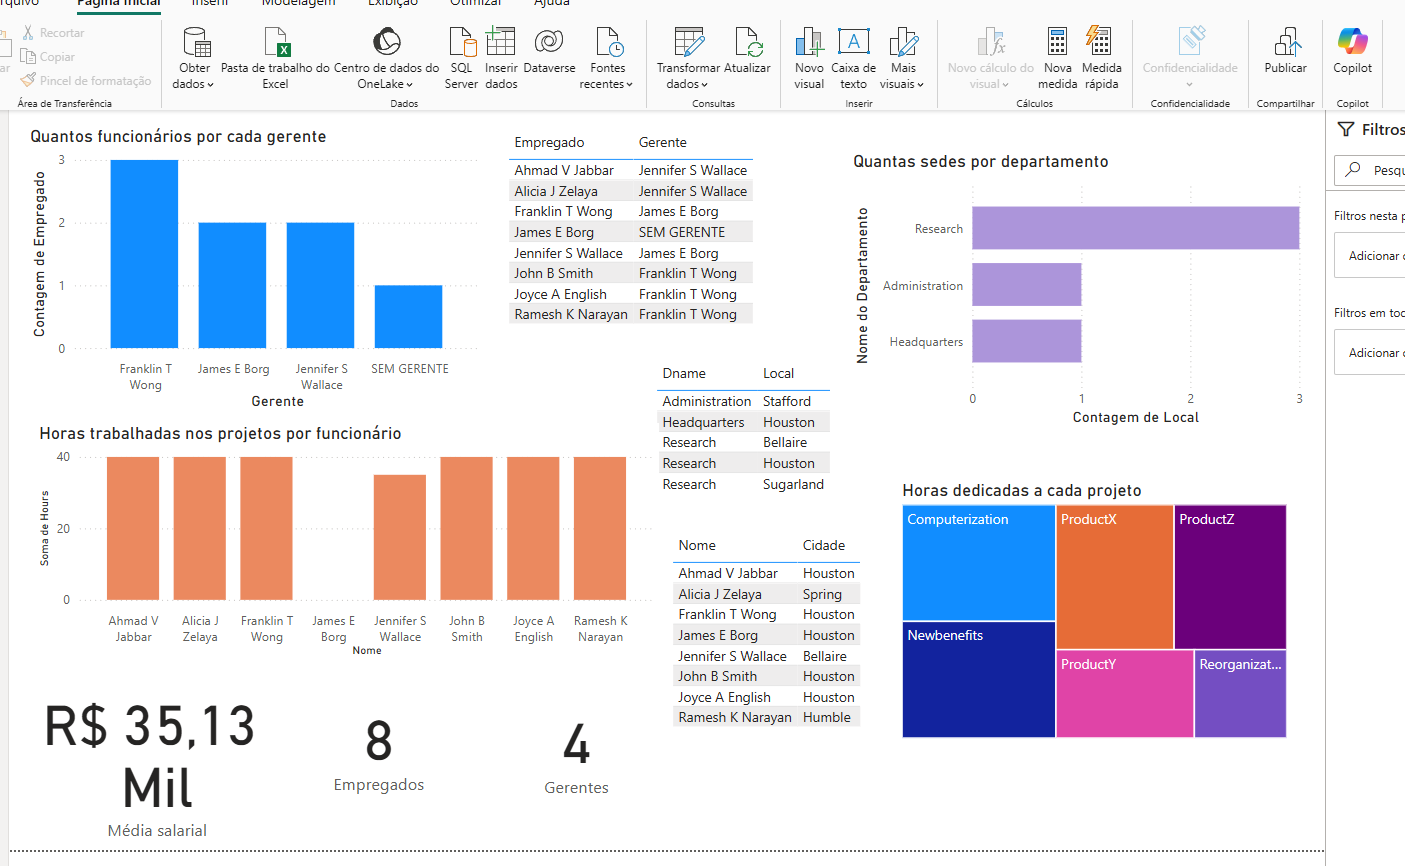

This screenshot's page, from the dashboard's own definition file:
{"tool":"powerbi","page":{"name":"Página 1","canvas":[1280,720],"ordinal":0},"visuals":[{"type":"clusteredColumnChart","title":"Quantos funcionários por cada gerente","fields":{"Y":["Empregado-Gerente.Empregado"],"Category":["Empregado-Gerente.Gerente"]},"box":[16,16,448,280],"z":0},{"type":"tableEx","fields":{"Values":["Empregado-Gerente.Empregado","Empregado-Gerente.Gerente"]},"box":[480,16,264,208],"z":1},{"type":"barChart","title":"Quantas sedes por departamento","fields":{"Category":["DPTO LOCAL.Dname"],"Y":["DPTO LOCAL.Local"]},"box":[816,40,448,272],"z":2},{"type":"tableEx","fields":{"Values":["DPTO LOCAL.Dname","DPTO LOCAL.Local"]},"box":[624,240,192,168],"z":3},{"type":"columnChart","title":"Horas trabalhadas nos projetos por funcionário","fields":{"Category":["Empregados.Nome","Trabalha em.Essn"],"Y":["Trabalha em.Hours"]},"box":[24,304,608,232],"z":4},{"type":"treemap","title":"Horas dedicadas a cada projeto","fields":{"Values":["Trabalha em.Hours"],"Group":["Projetos.Pname","Trabalha em.Pno"]},"box":[864,360,384,256],"z":5},{"type":"tableEx","fields":{"Values":["Empregados.Nome","Empregados.Cidade"]},"box":[640,408,200,208],"z":6},{"type":"card","fields":{"Values":["Empregados.Salary"]},"box":[0,544,288,176],"z":7},{"type":"card","fields":{"Values":["Empregado-Gerente.Empregado"]},"box":[256,552,208,128],"z":8},{"type":"card","fields":{"Values":["Empregado-Gerente.Gerente"]},"box":[464,544,176,152],"z":9}]}

Visuals, with their boxes on the page's 1280x720 design canvas (x1, y1, x2, y2). These are canvas units, not pixel positions in the 1405x866 screenshot, which may show the page scaled, cropped or inside an application window:
"Quantos funcionários por cada gerente" clusteredColumnChart: bbox(16, 16, 464, 296)
tableEx - Empregado-Gerente.Empregado x Empregado-Gerente.Gerente: bbox(480, 16, 744, 224)
"Quantas sedes por departamento" barChart: bbox(816, 40, 1264, 312)
tableEx - DPTO LOCAL.Dname x DPTO LOCAL.Local: bbox(624, 240, 816, 408)
"Horas trabalhadas nos projetos por funcionário" columnChart: bbox(24, 304, 632, 536)
"Horas dedicadas a cada projeto" treemap: bbox(864, 360, 1248, 616)
tableEx - Empregados.Nome x Empregados.Cidade: bbox(640, 408, 840, 616)
card - Empregados.Salary: bbox(0, 544, 288, 720)
card - Empregado-Gerente.Empregado: bbox(256, 552, 464, 680)
card - Empregado-Gerente.Gerente: bbox(464, 544, 640, 696)
